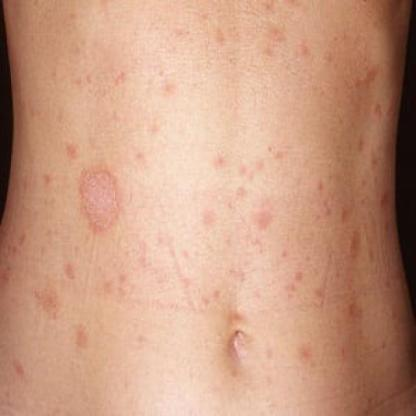Ringworm: (75, 158, 129, 240)
